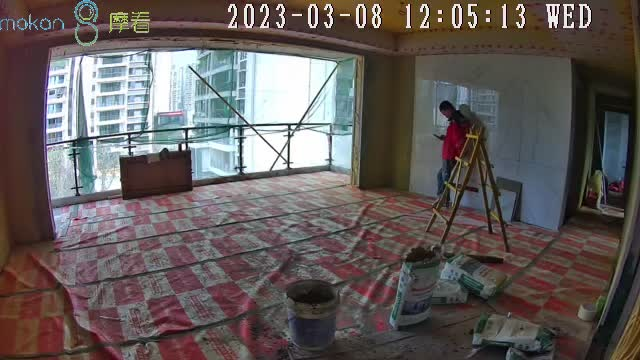people: (437, 101, 469, 205)
window: (44, 49, 353, 196)
